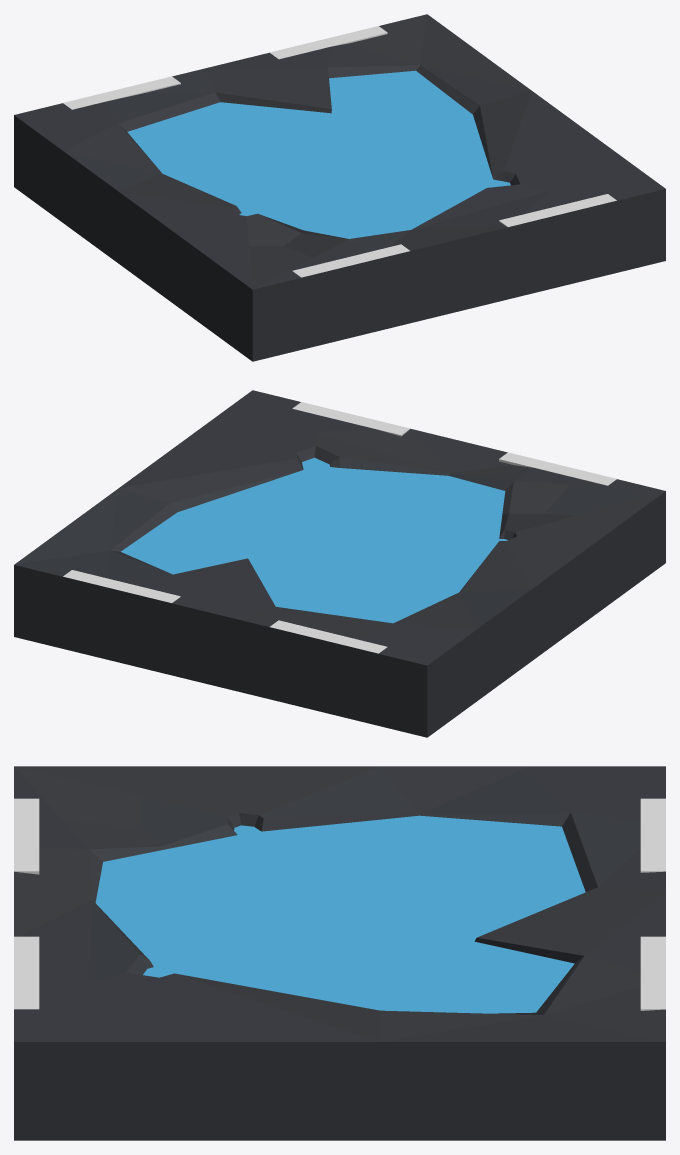
Rendered from SM_Road_WaterHole_1x1.fbx.
3 views of the same model, one above another, from view 1: azimuth 30°, elevation 25°; view 2: azimuth 150°, elevation 25°; view 3: azimuth 270°, elevation 25° (orthographic). The views are drawn at different scales.
Visible parts, largest first — view 1: Concrete.005; view 2: Concrete.005; view 3: Concrete.005.
Boxes of the visible parts, <box> form: Concrete.005: <box>14,14,665,361</box>; Concrete.005: <box>14,390,665,737</box>; Concrete.005: <box>14,766,665,1140</box>.
Bounding box in the file's own units: 300 × 50.12 × 300.
